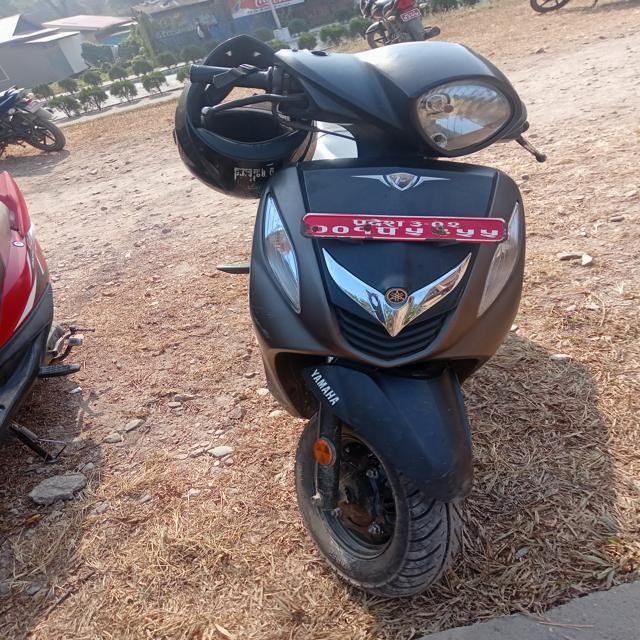license_plate: (302, 204, 514, 248)
